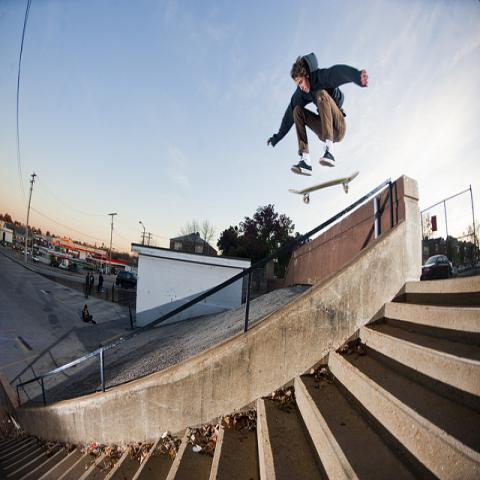car: (421, 255, 453, 280), (116, 270, 138, 290), (457, 264, 466, 272), (59, 263, 69, 270), (464, 263, 472, 270), (32, 255, 39, 262), (475, 262, 479, 269)
